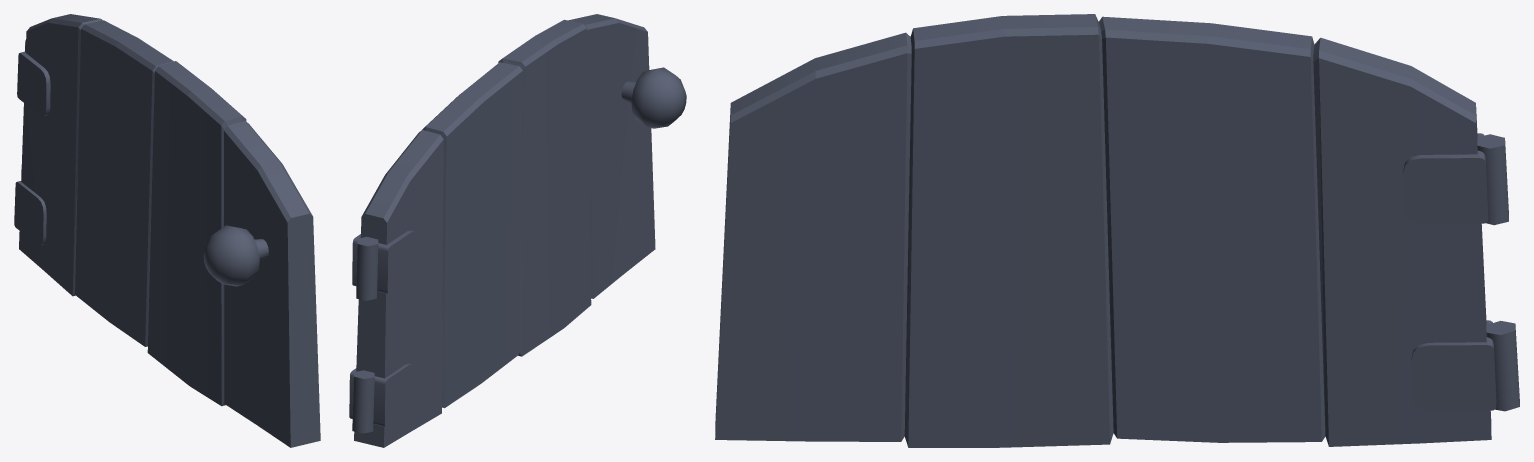
Rendered from FenceDoor.FBX.
The picture shows the model from 3 angles, left to right: view 1: azimuth 30°, elevation 25°; view 2: azimuth 150°, elevation 25°; view 3: azimuth 270°, elevation 25°; orthographic projection. The views are drawn at different scales.
Parts seen in each view (by area): view 1: FenceDoorModel; view 2: FenceDoorModel; view 3: FenceDoorModel.
Boxes of the visible parts, x1,y1,x2,y2 form: FenceDoorModel: (14,14,320,447); FenceDoorModel: (349,14,686,447); FenceDoorModel: (715,14,1519,447).
Bounding box in the file's own units: 28.81 × 90.99 × 159.
